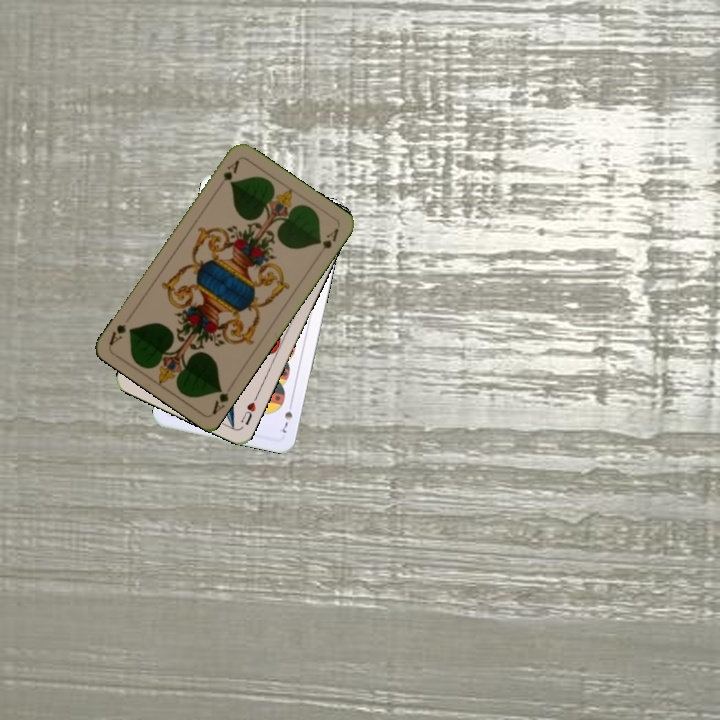GA: (214, 156, 242, 191), (208, 382, 231, 417)
HU: (237, 391, 261, 428)
S7: (278, 398, 295, 436)
